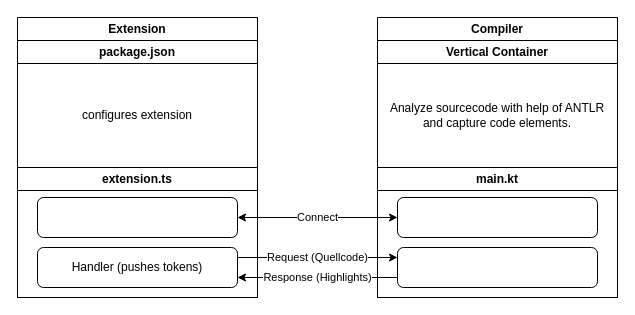
The diagram is 635 pixels wide and 315 high, and some of its shapes have lost their labels. The shapes that lost their labels are listed below. From the top down, each one's centre as x and y in pixels, then its label:
At (x=137, y=217): "Setup and register handler".
At (x=497, y=217): "Server (localhost:8000)".
At (x=497, y=267): "Statemachine (converts string index in line position)".
